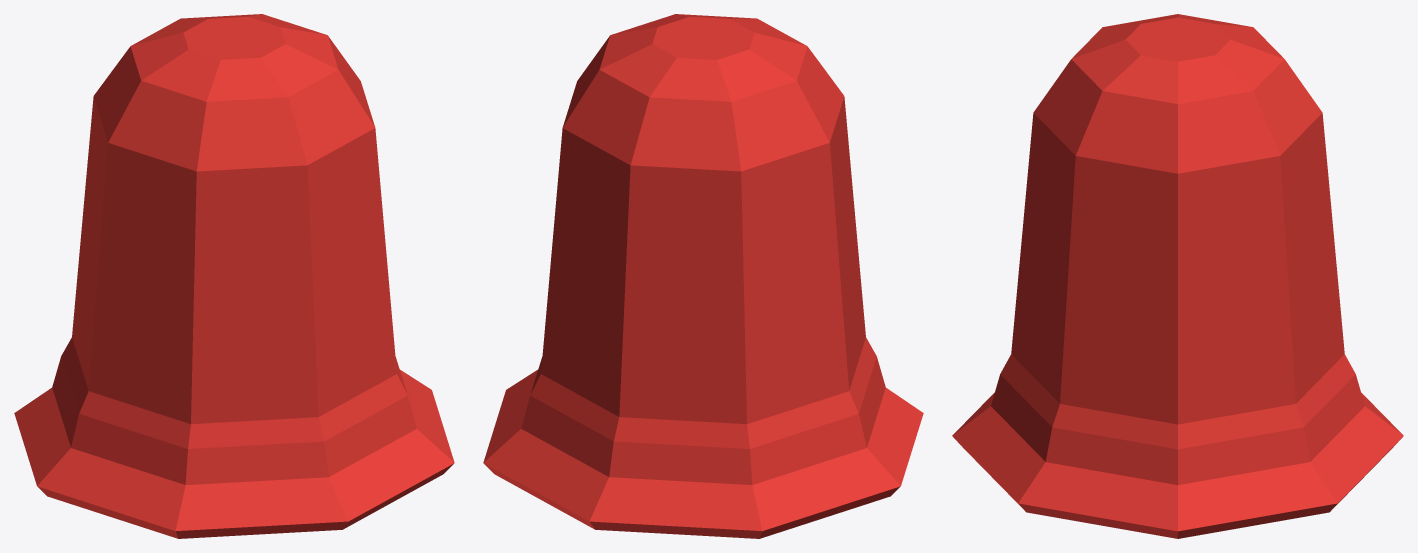
The model's file is SM_Bell_A_Christmas.fbx.
3 views of the same model, side by side, from view 1: azimuth 30°, elevation 25°; view 2: azimuth 150°, elevation 25°; view 3: azimuth 270°, elevation 25° (orthographic).
Visible parts, largest first — view 1: bell-a-christmas; view 2: bell-a-christmas; view 3: bell-a-christmas.
Part boxes in pixels (x1,y1,x2,y2): bell-a-christmas: (14,14,454,538); bell-a-christmas: (483,14,923,538); bell-a-christmas: (952,14,1403,538).
Bounding box in the file's own units: 0.1378 × 0.1375 × 0.1378.
